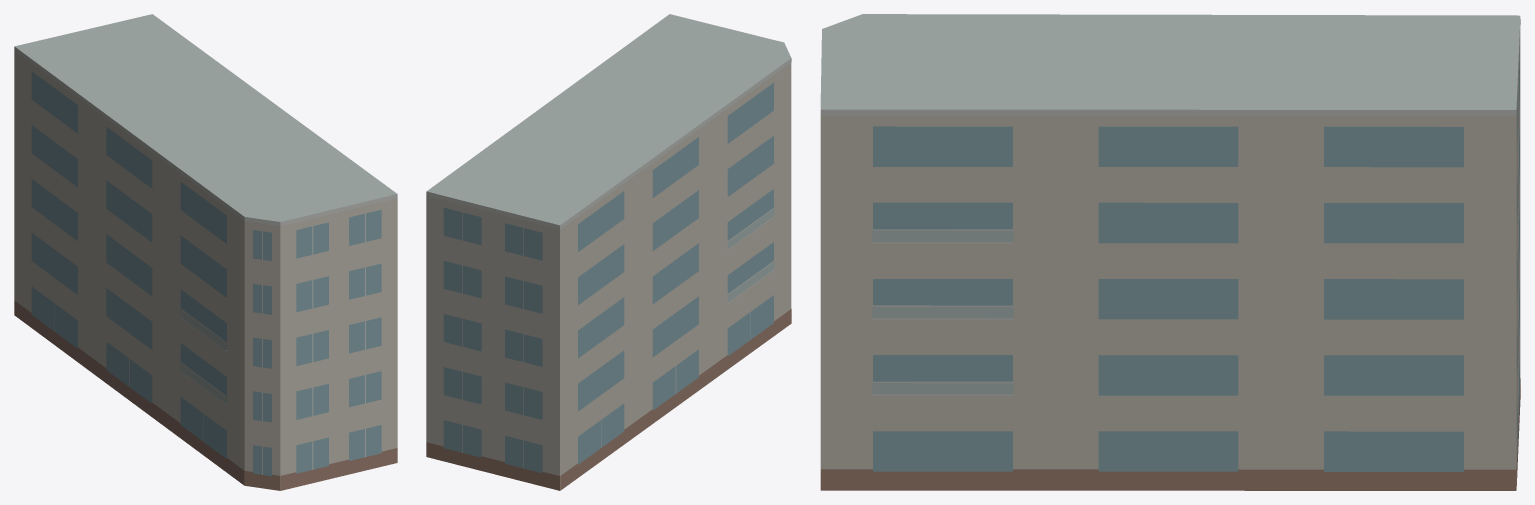
File: survey-upis-32881110.glb
3 views of the same model, side by side, from view 1: azimuth 30°, elevation 25°; view 2: azimuth 150°, elevation 25°; view 3: azimuth 270°, elevation 25° (orthographic). The views are drawn at different scales.
Parts seen in each view (by area): view 1: survey-upis-32881110.tmp; view 2: survey-upis-32881110.tmp; view 3: survey-upis-32881110.tmp.
Part boxes in pixels (<box>): survey-upis-32881110.tmp: <box>14,14,397,490</box>; survey-upis-32881110.tmp: <box>426,14,791,490</box>; survey-upis-32881110.tmp: <box>820,14,1520,490</box>.
Bounding box in the file's own units: 8.28 × 15.25 × 25.41.
